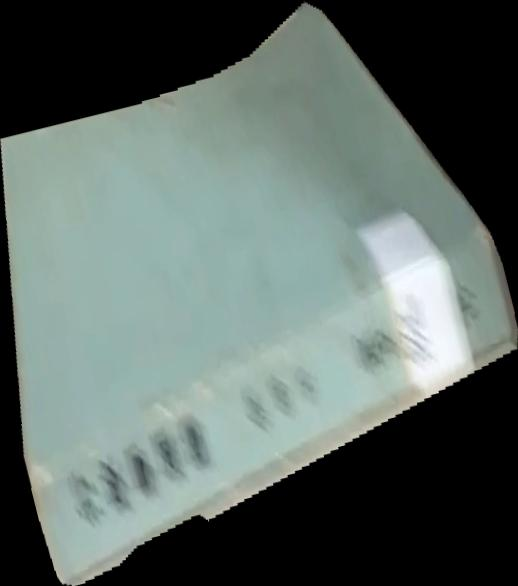flat: (1, 1, 518, 586)
